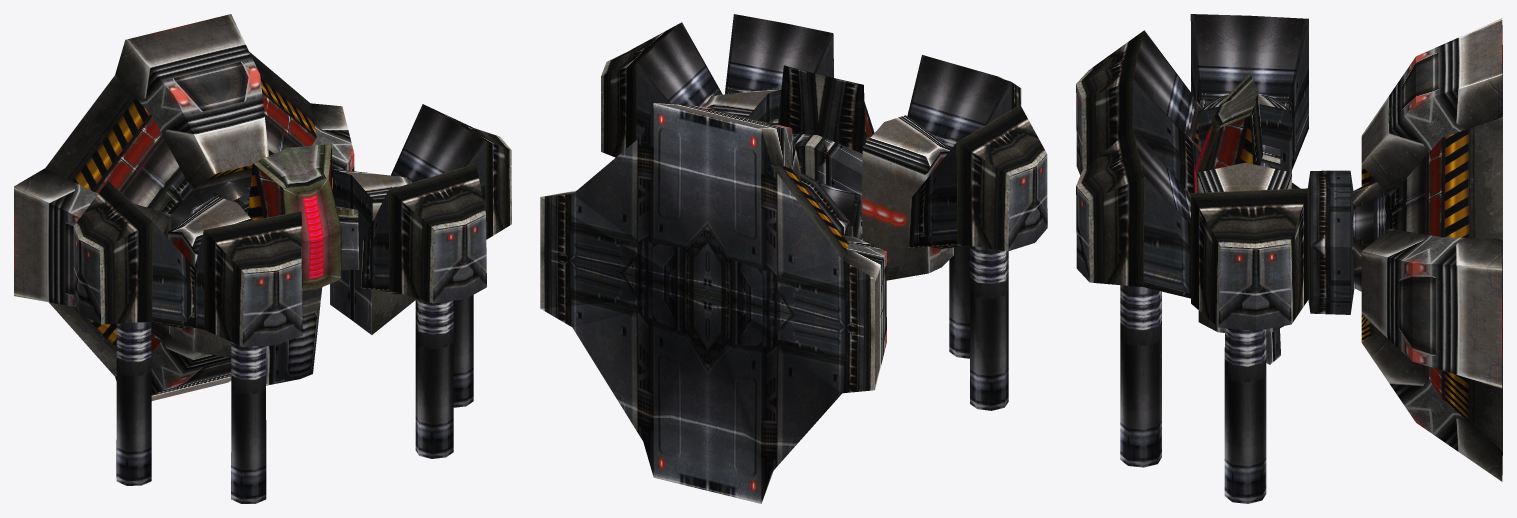
Rendered from turret-06.obj.
3 views of the same model, side by side, from view 1: azimuth 30°, elevation 25°; view 2: azimuth 150°, elevation 25°; view 3: azimuth 270°, elevation 25° (orthographic). The views are drawn at different scales.
Visible parts, largest first — view 1: body, gun_02, gun_01, head, barrel_02, barrel_04, barrel_03, barrel_01; view 2: body, gun_02, gun_01, head, barrel_04, barrel_03; view 3: body, gun_01, gun_02, head, barrel_02, barrel_01.
Boxes of the visible parts, left/top/right/bottom form: body: left=14, top=14, right=354, bottom=400; gun_02: left=73, top=181, right=302, bottom=357; gun_01: left=330, top=104, right=511, bottom=334; head: left=233, top=144, right=359, bottom=385; barrel_02: left=415, top=298, right=453, bottom=458; barrel_04: left=116, top=321, right=151, bottom=485; barrel_03: left=231, top=342, right=266, bottom=503; barrel_01: left=453, top=295, right=473, bottom=407; body: left=540, top=103, right=886, bottom=503; gun_02: left=862, top=55, right=1047, bottom=280; gun_01: left=601, top=14, right=833, bottom=157; head: left=772, top=65, right=874, bottom=239; barrel_04: left=970, top=246, right=1008, bottom=410; barrel_03: left=949, top=246, right=969, bottom=358; body: left=1352, top=18, right=1502, bottom=481; gun_01: left=1076, top=127, right=1308, bottom=332; gun_02: left=1076, top=14, right=1308, bottom=195; head: left=1194, top=73, right=1354, bottom=364; barrel_02: left=1120, top=285, right=1161, bottom=467; barrel_01: left=1224, top=328, right=1266, bottom=503.
Size of the model in its own units: 5.74 by 4.79 by 4.56.
1 material, 1 textured.
